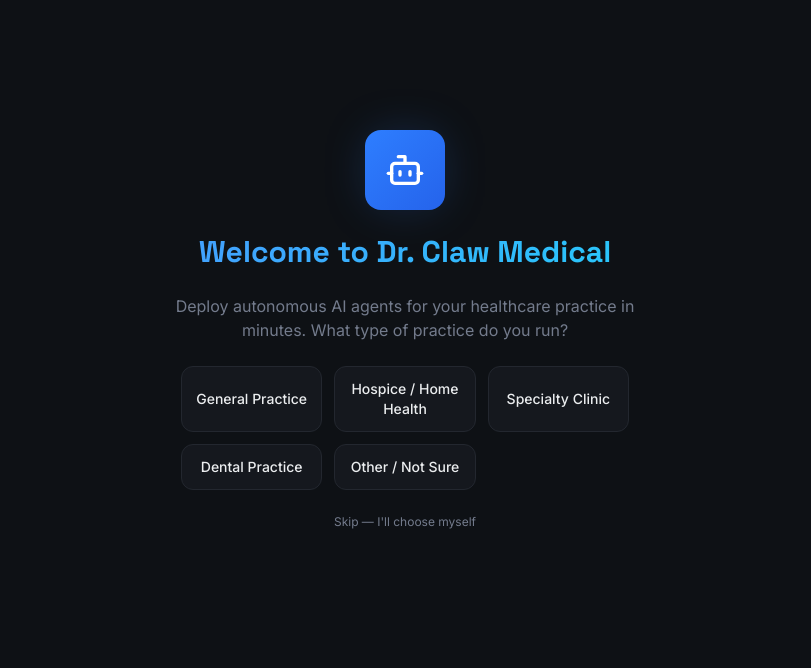
Onboarding Page › can go back from pick-pack to welcome
Step 1. Click the button "General Practice" → x=252, y=399, box x1=181 y1=366 x2=322 y2=432
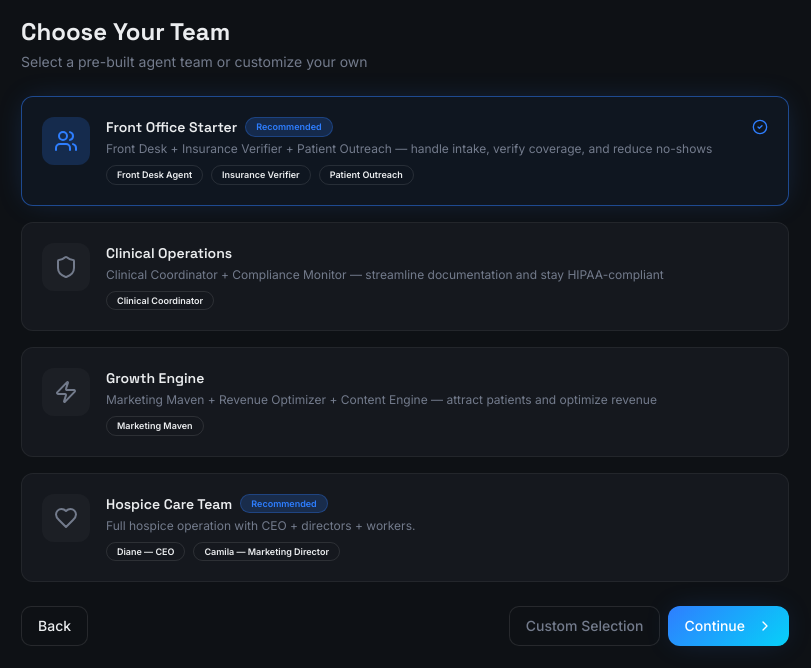
Expected: the heading "Choose Your Team" is shown, x1=21 y1=16 x2=230 y2=47
Step 2. Click the button "Back" → x=55, y=626, box x1=21 y1=606 x2=88 y2=646
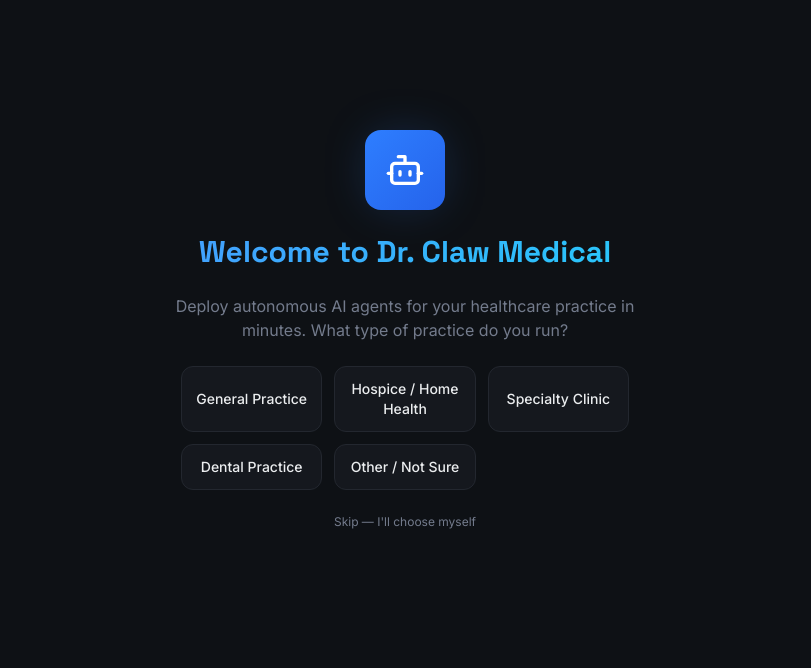
Expected: the heading "Welcome to Dr. Claw Medical" is shown, x1=21 y1=234 x2=789 y2=270
